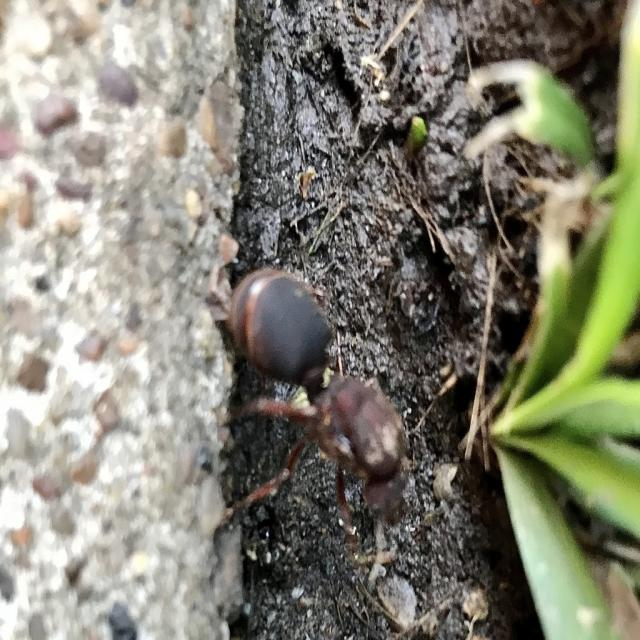Alive-Female-Dealate: (223, 266, 421, 549)
